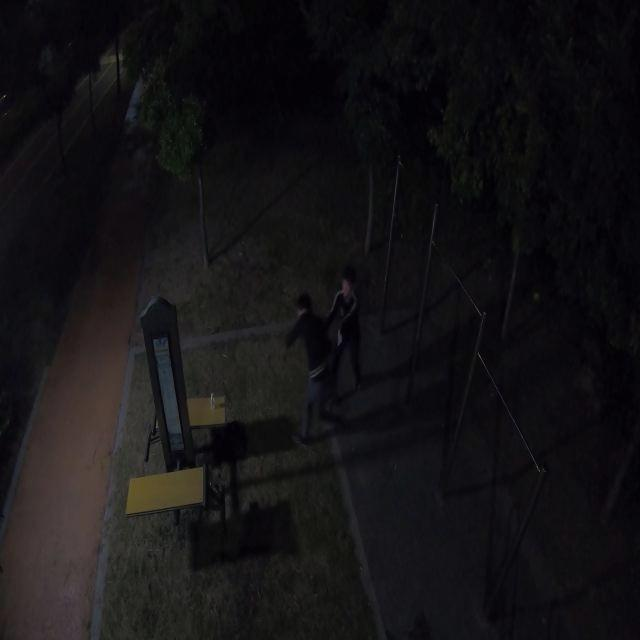fight: (276, 268, 364, 442)
